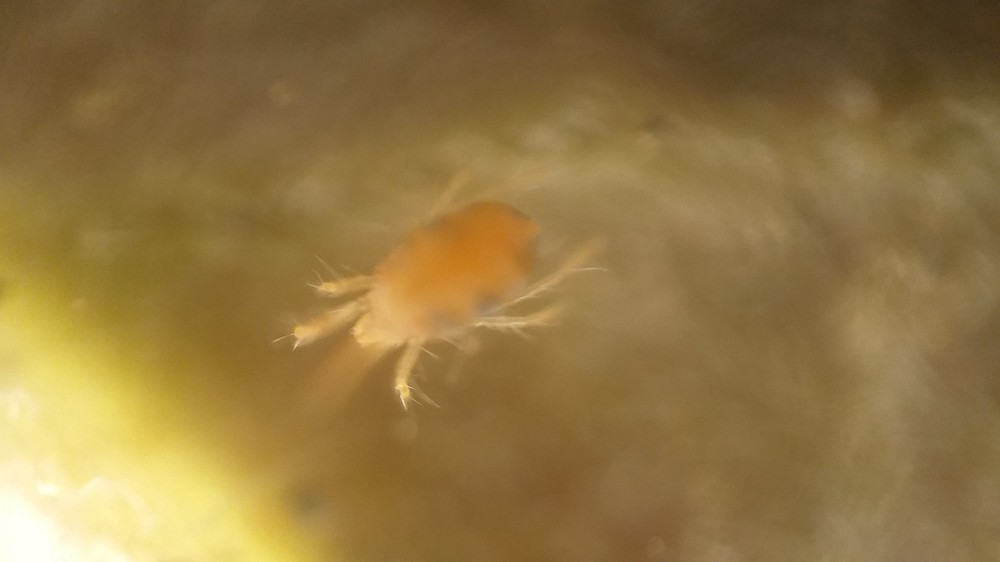Aracnido Rojo: (258, 156, 640, 423)
